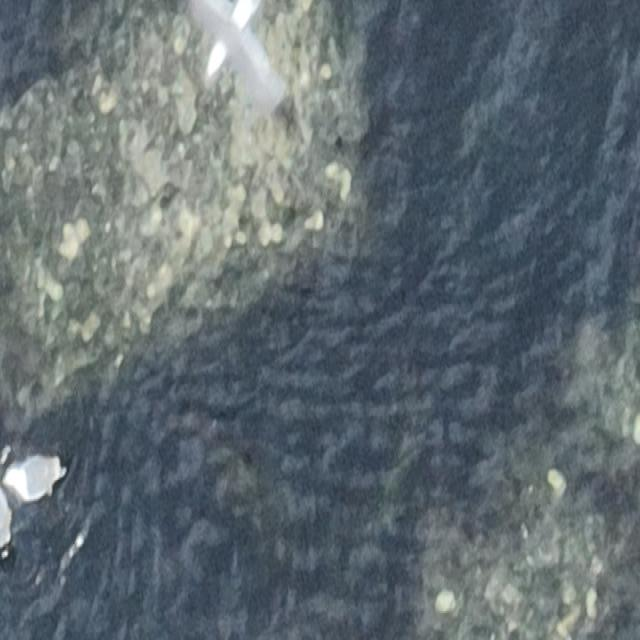F: (194, 0, 284, 102)
